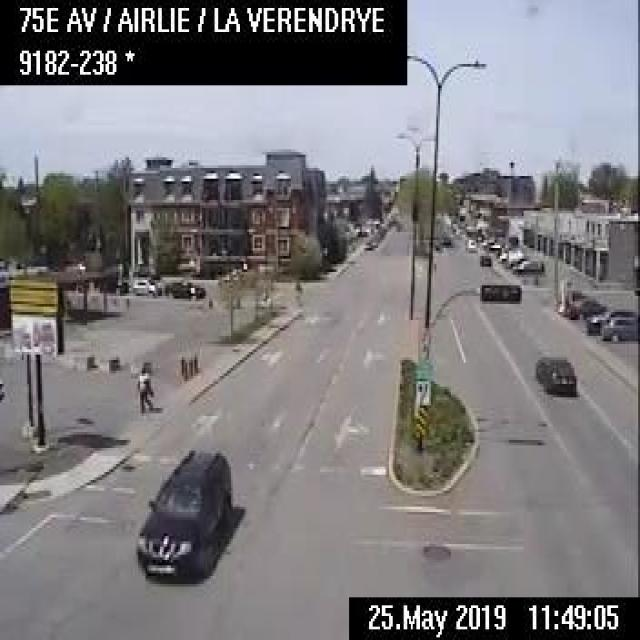pedestrian: (134, 360, 154, 415)
vehicle: (134, 443, 232, 584), (533, 352, 576, 395), (599, 310, 637, 340), (584, 307, 626, 333), (565, 294, 606, 316), (164, 275, 204, 296), (127, 274, 161, 294), (512, 256, 543, 273), (477, 250, 490, 264), (464, 235, 476, 249), (361, 238, 371, 248)
